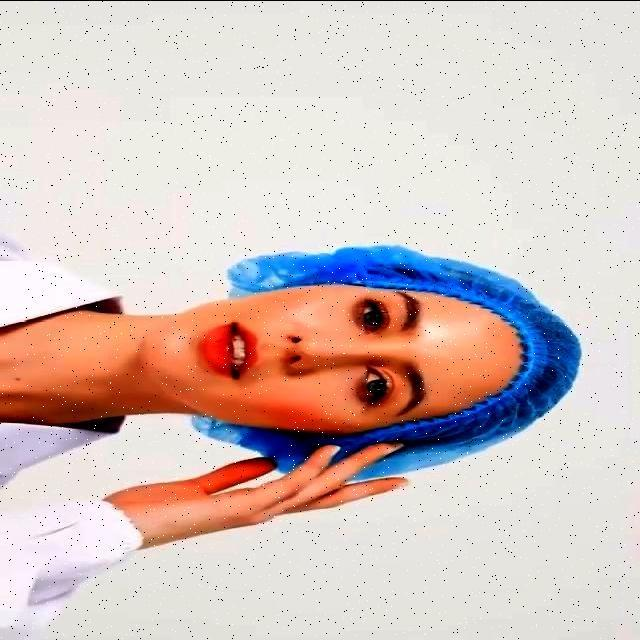gloves: (478, 276, 588, 454)
no_apron: (132, 442, 422, 547)
no_hairnet: (162, 288, 338, 416)
